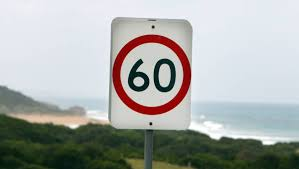sp60: (114, 39, 192, 109)
